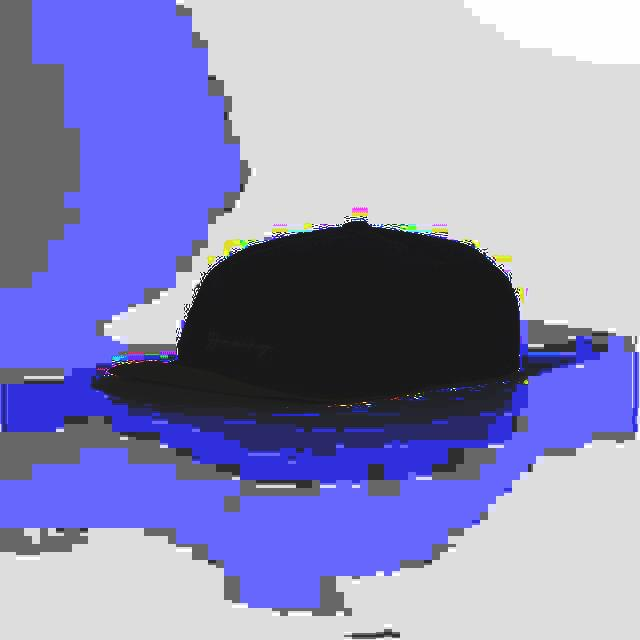TOPI: (108, 216, 520, 407)
